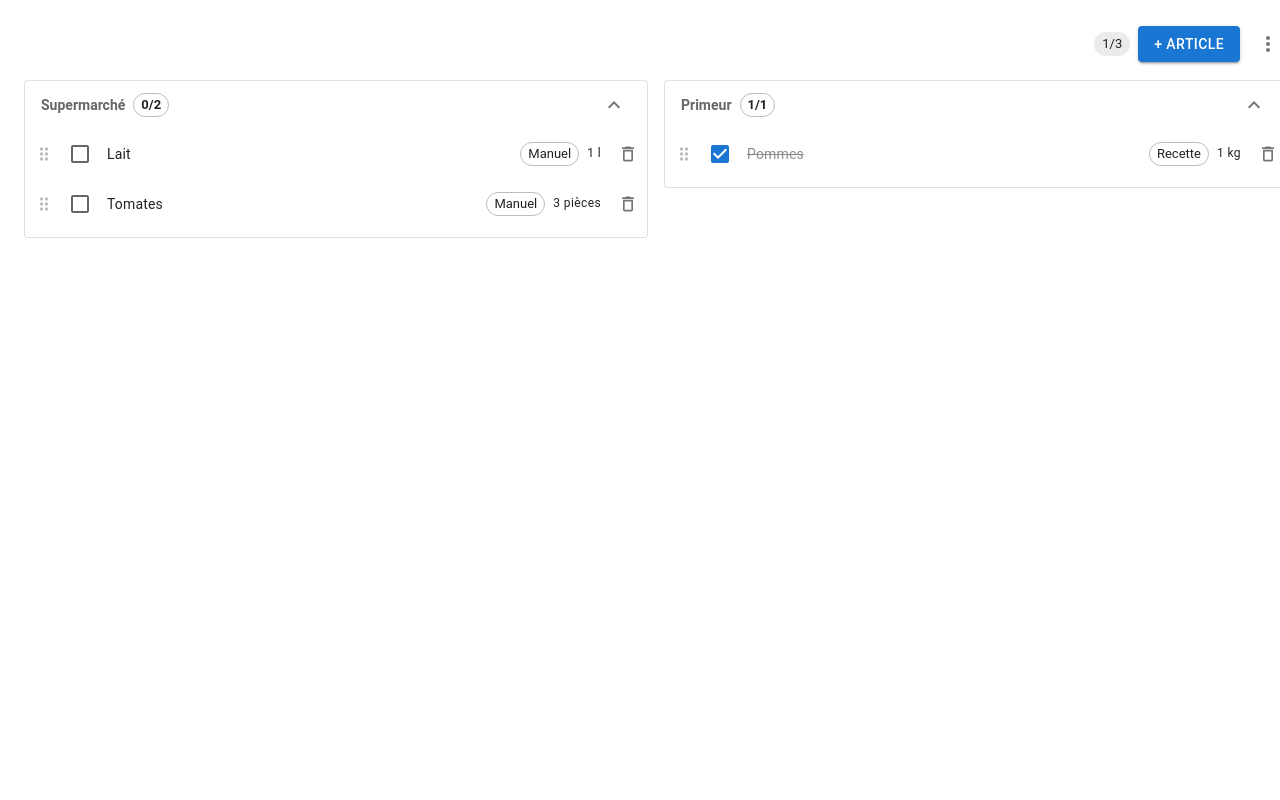
Test: GroceryListView › writes on a line go to the route the API exposes (MAG-197) › ending the errand announces how many products are back in stock
Expected: the text "Pommes" is shown, [747,146,804,162]
Click the button named "Plus d'actions" at (1264, 44), box [1248,24,1279,64]
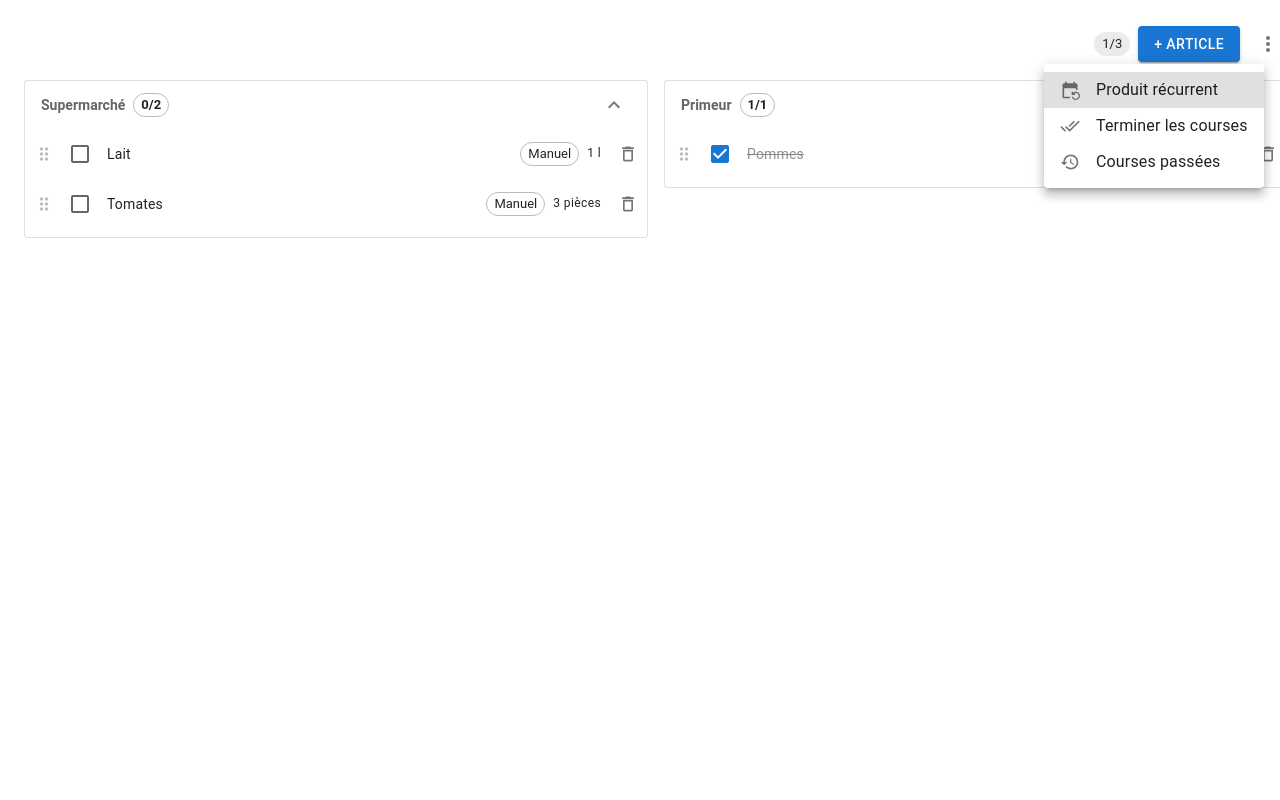
Click the menu item "Terminer les courses" at (1154, 126), box [1060,116,1248,136]
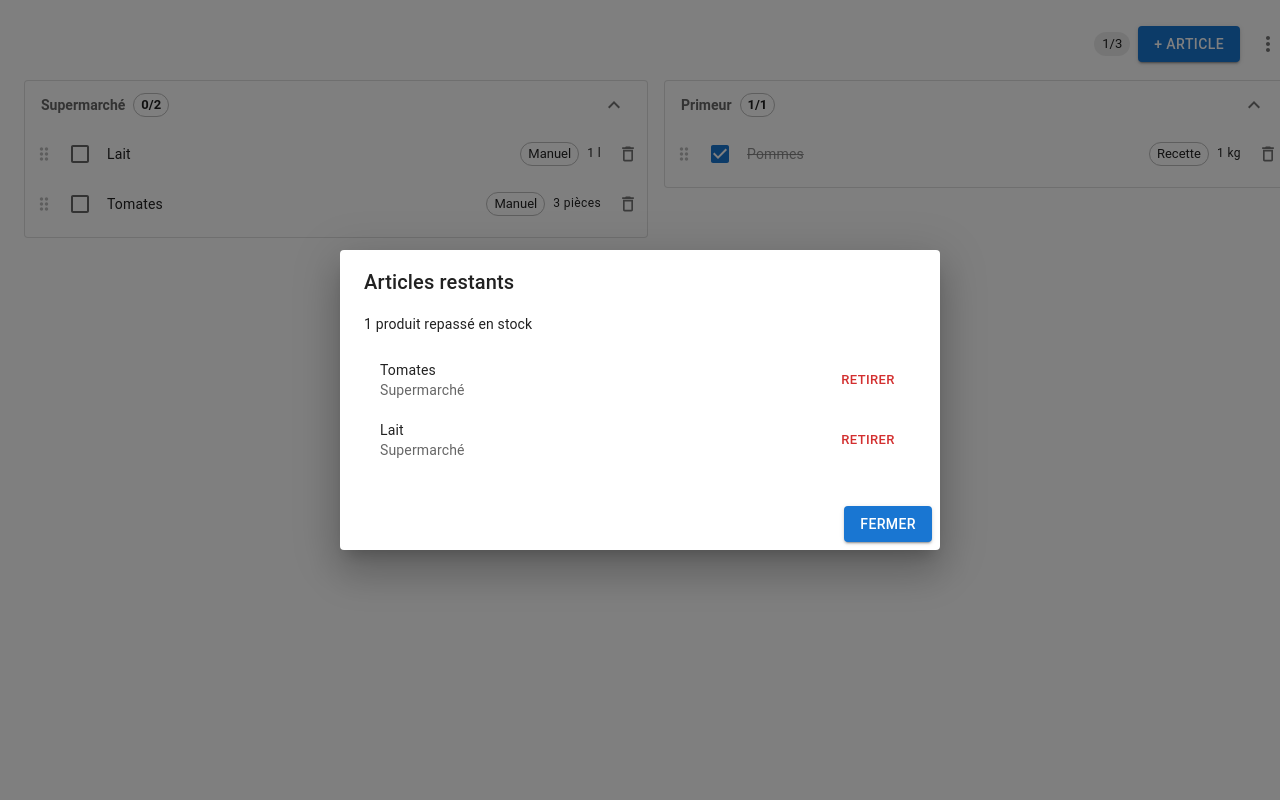
Expected: the text "1 produit repassé en stock" is shown, [364,316,532,332]
